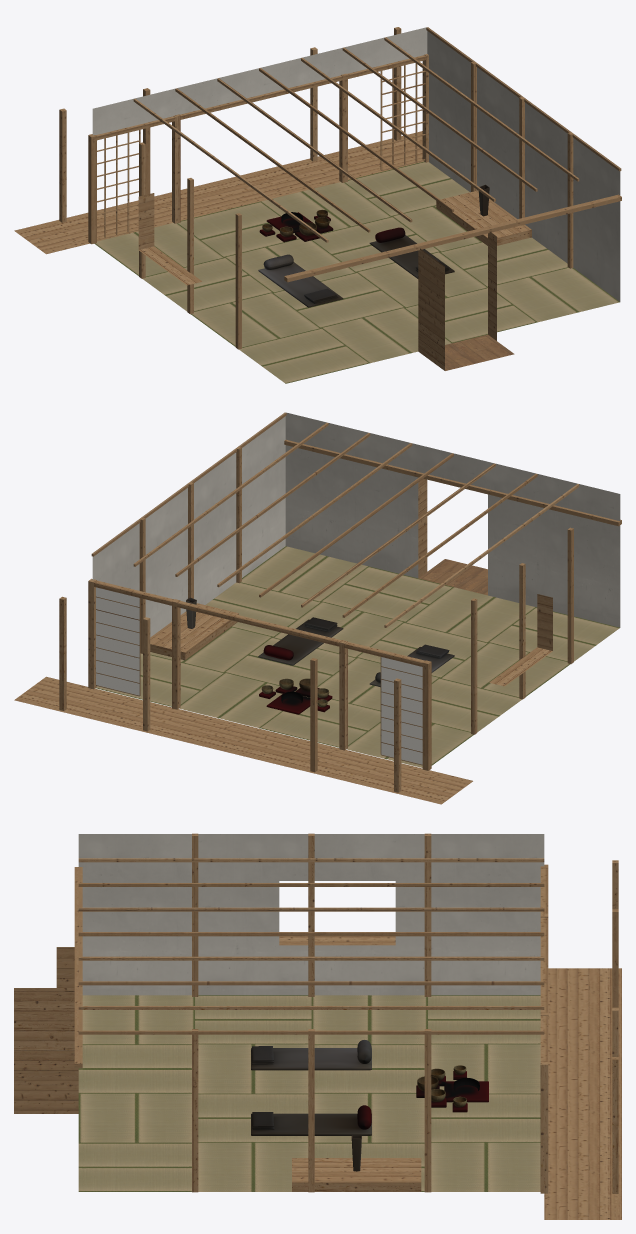
Rendered from room.gltf.
3 views of the same model, one above another, from view 1: azimuth 30°, elevation 25°; view 2: azimuth 150°, elevation 25°; view 3: azimuth 270°, elevation 25° (orthographic). The views are drawn at different scales.
Parts seen in each view (by area): view 1: shell_tatami, shell_hinoki, shell_white_plaster, prop_linen, shell_floor_pale, prop_velvet, prop_herring, prop_brass; view 2: shell_white_plaster, shell_tatami, shell_hinoki, shell_shoji, prop_linen, shell_floor_pale, prop_velvet, prop_herring, prop_brass; view 3: shell_tatami, shell_hinoki, shell_white_plaster, prop_linen, prop_velvet, prop_herring, prop_brass.
Part boxes in pixels (x1,y1,x2,y2): shell_tatami: (94,161,619,383); shell_hinoki: (14,27,621,370); shell_white_plaster: (92,27,620,301); prop_linen: (258,235,454,307); shell_floor_pale: (445,334,514,370); prop_velvet: (259,212,405,242); prop_herring: (263,212,448,303); prop_brass: (262,209,329,236); shell_white_plaster: (92,412,620,637); shell_tatami: (96,546,619,767); shell_hinoki: (14,412,621,804); shell_shoji: (96,587,422,764); prop_linen: (258,619,454,687); shell_floor_pale: (418,559,487,595); prop_velvet: (259,645,332,714); prop_herring: (281,617,449,702); prop_brass: (261,678,329,707); shell_tatami: (78,995,540,1191); shell_hinoki: (14,833,621,1219); shell_white_plaster: (78,834,544,995); prop_linen: (251,1048,371,1135); prop_velvet: (357,1071,488,1129); prop_herring: (251,1040,479,1129); prop_brass: (417,1065,466,1107).
Bounding box in the file's own units: 9.2 × 2.76 × 9.4.
10 materials, 10 textured.
